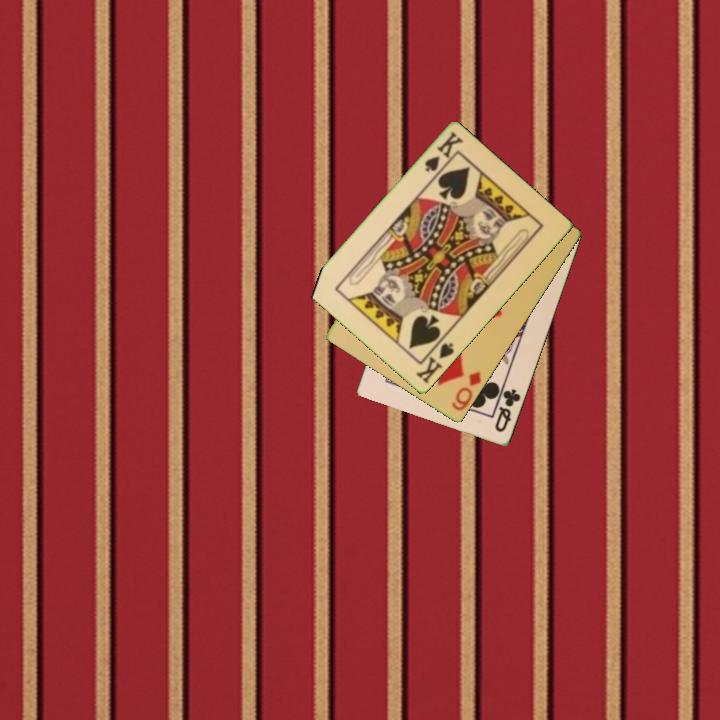6d: (448, 368, 484, 414)
Ks: (412, 334, 457, 387), (421, 128, 466, 175)
Qc: (491, 382, 524, 435)
